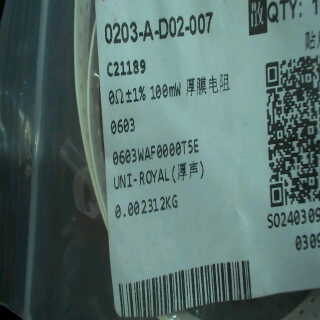0R: (109, 82, 184, 136)
